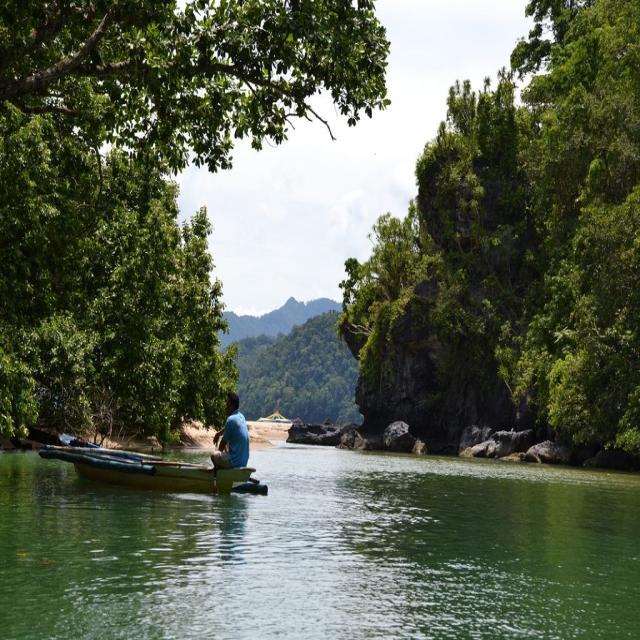Boat: (56, 426, 255, 488)
